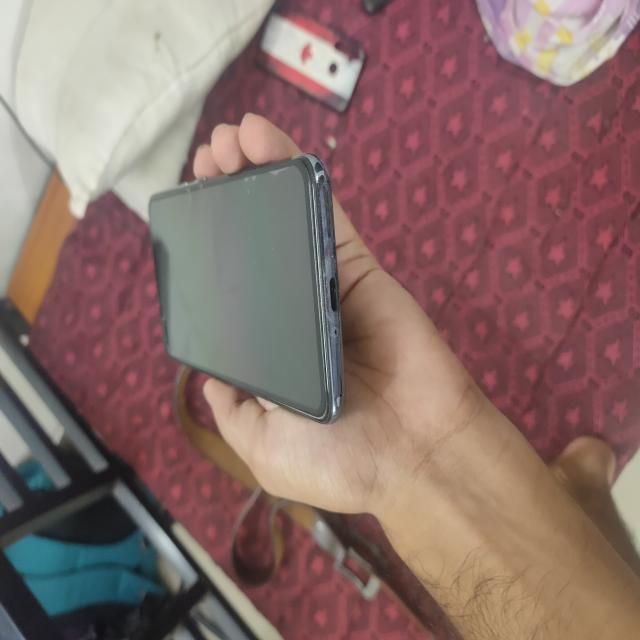Phone: (144, 155, 346, 429), (250, 3, 370, 116)
